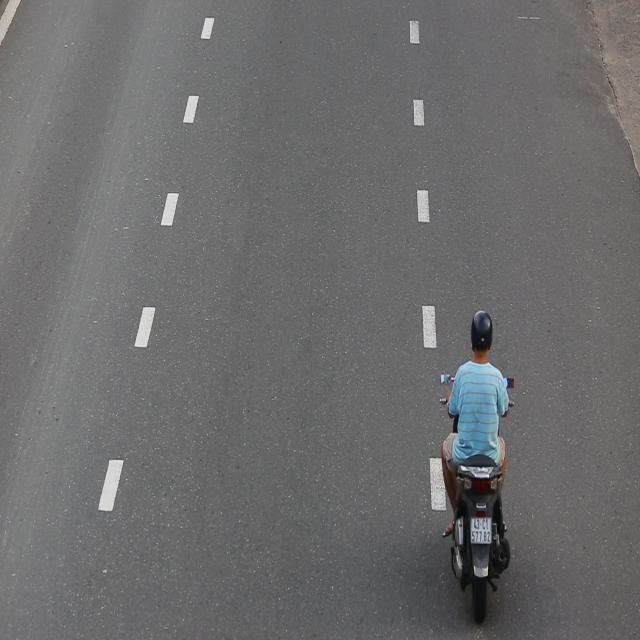motorbike: (438, 310, 522, 629)
